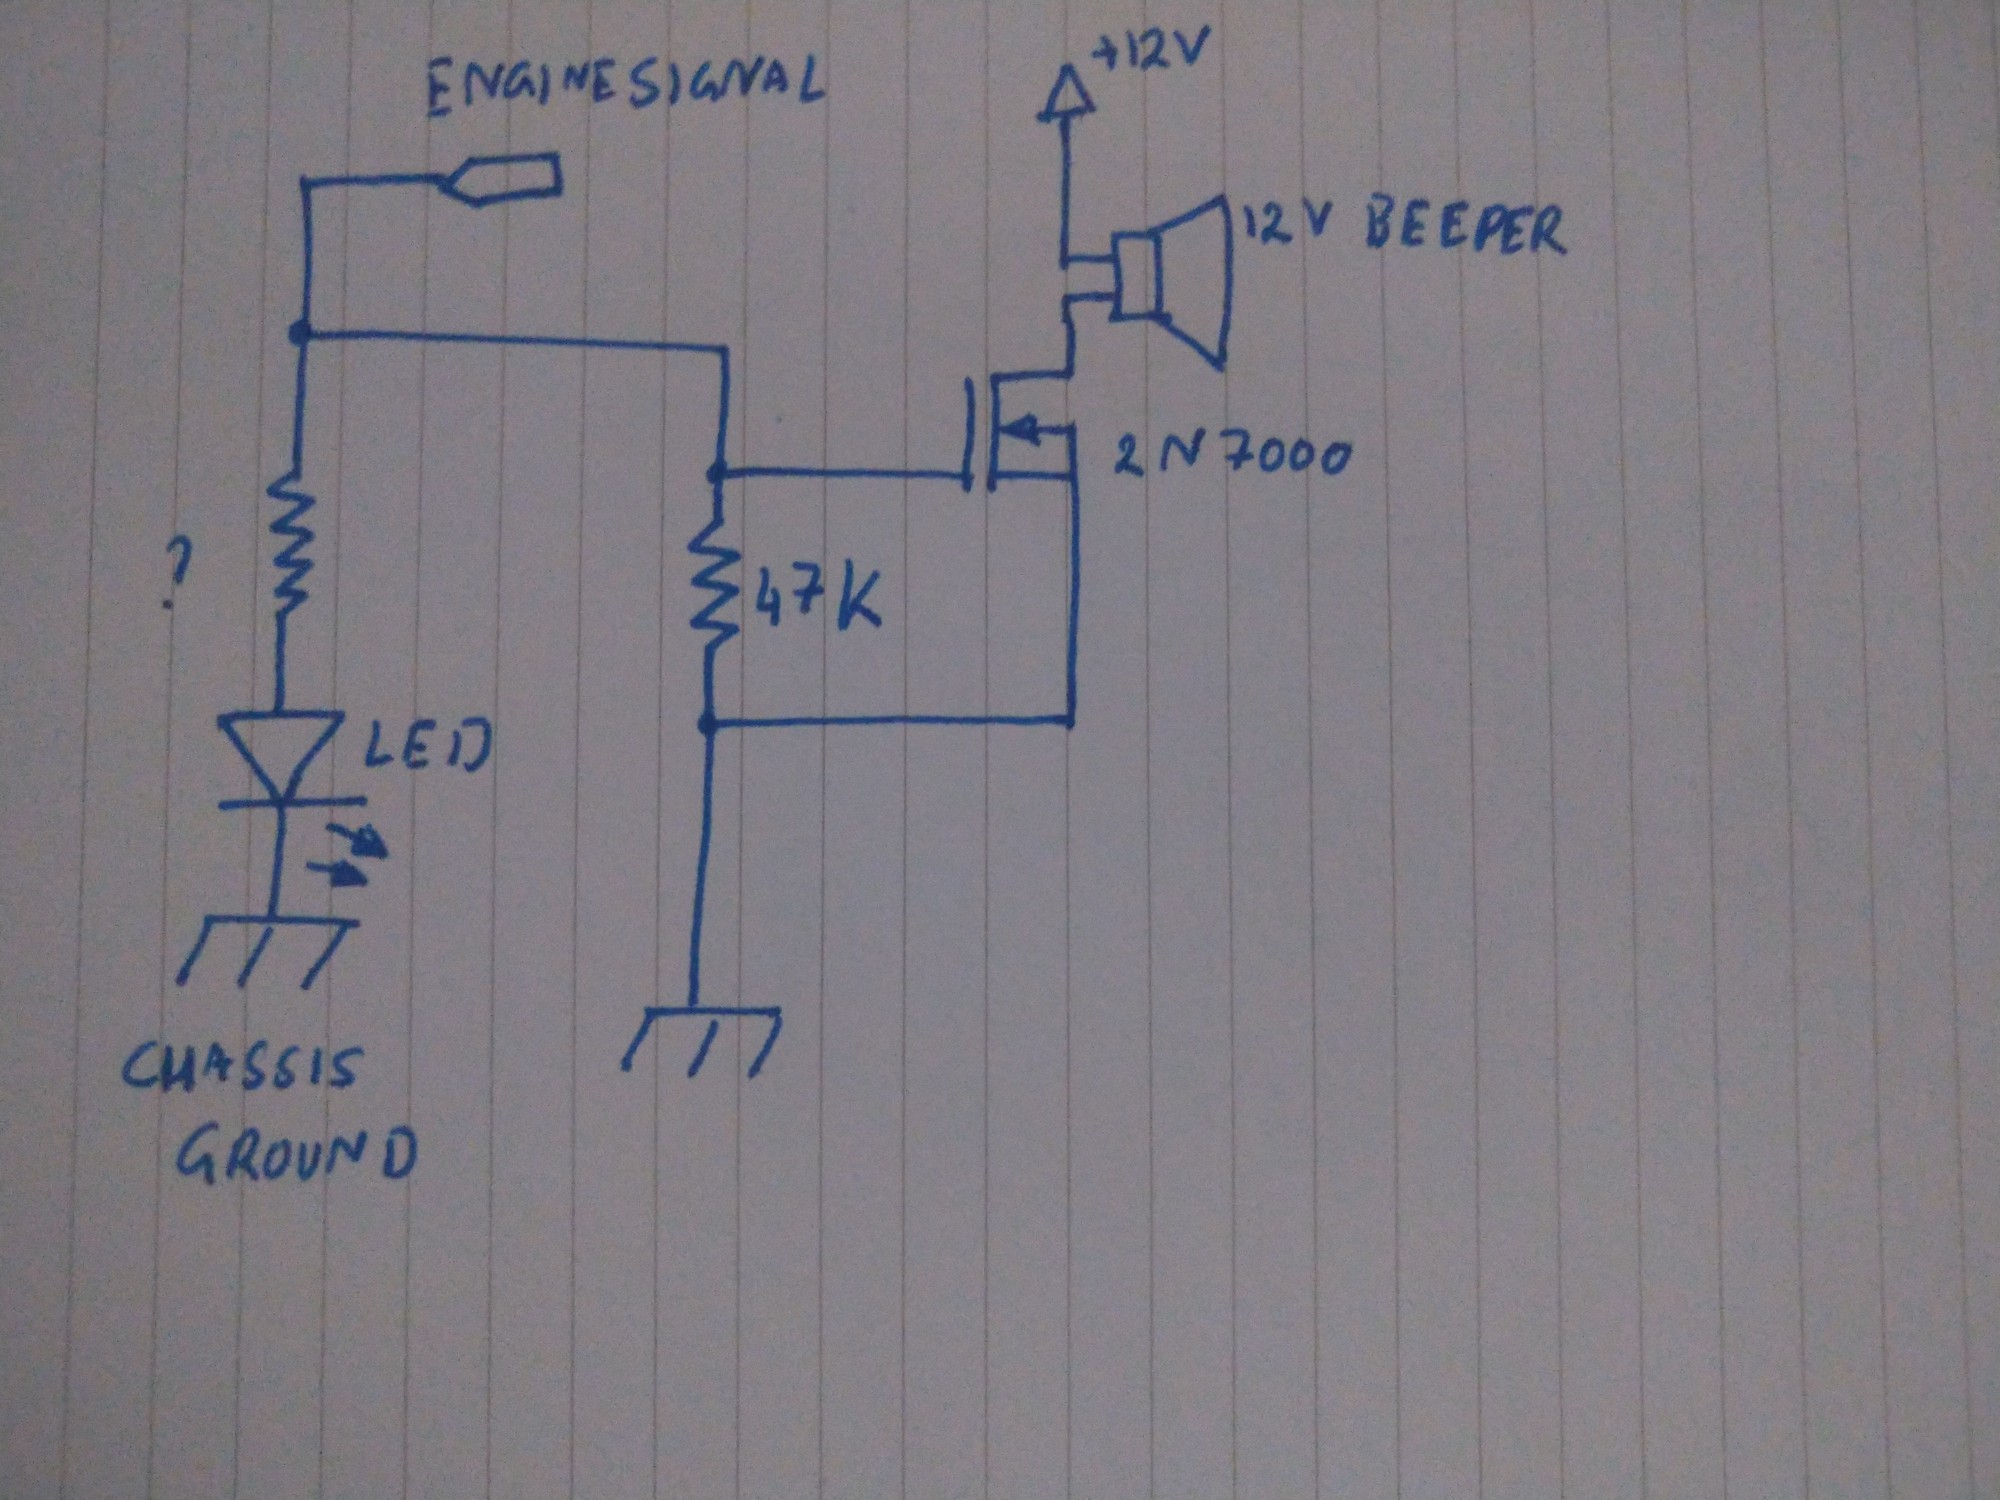diode.light_emitting: (203, 704, 397, 897)
gnd: (164, 908, 370, 994), (616, 1001, 791, 1086)
junction: (285, 312, 328, 353), (694, 701, 726, 744), (701, 455, 735, 492), (1057, 709, 1087, 737), (294, 170, 321, 199), (712, 339, 735, 362), (1055, 249, 1076, 273), (1057, 287, 1076, 307)
resistor: (680, 515, 750, 663), (261, 463, 324, 622)
speaker: (1106, 187, 1239, 380)
terminal: (430, 147, 569, 214), (1036, 60, 1102, 126)
text: (422, 46, 828, 124), (167, 1112, 435, 1194), (113, 1034, 375, 1100), (1109, 424, 1361, 487), (1362, 187, 1573, 262), (751, 556, 894, 638), (361, 712, 498, 777), (1087, 24, 1216, 79), (1239, 192, 1337, 247), (153, 529, 198, 613)
transistor: (946, 359, 1088, 507)
